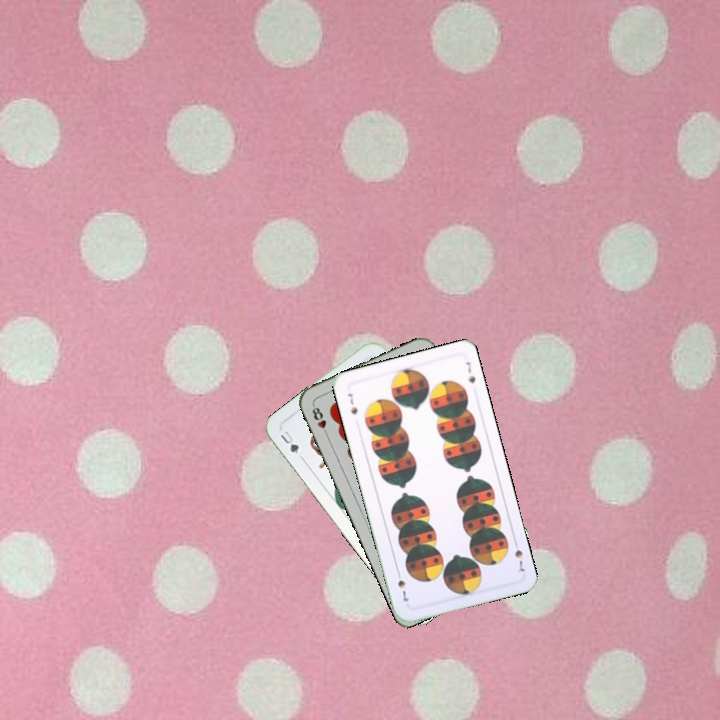GU: (276, 426, 301, 456)
H8: (308, 401, 331, 439)
S7: (343, 389, 360, 417), (511, 545, 527, 574)
